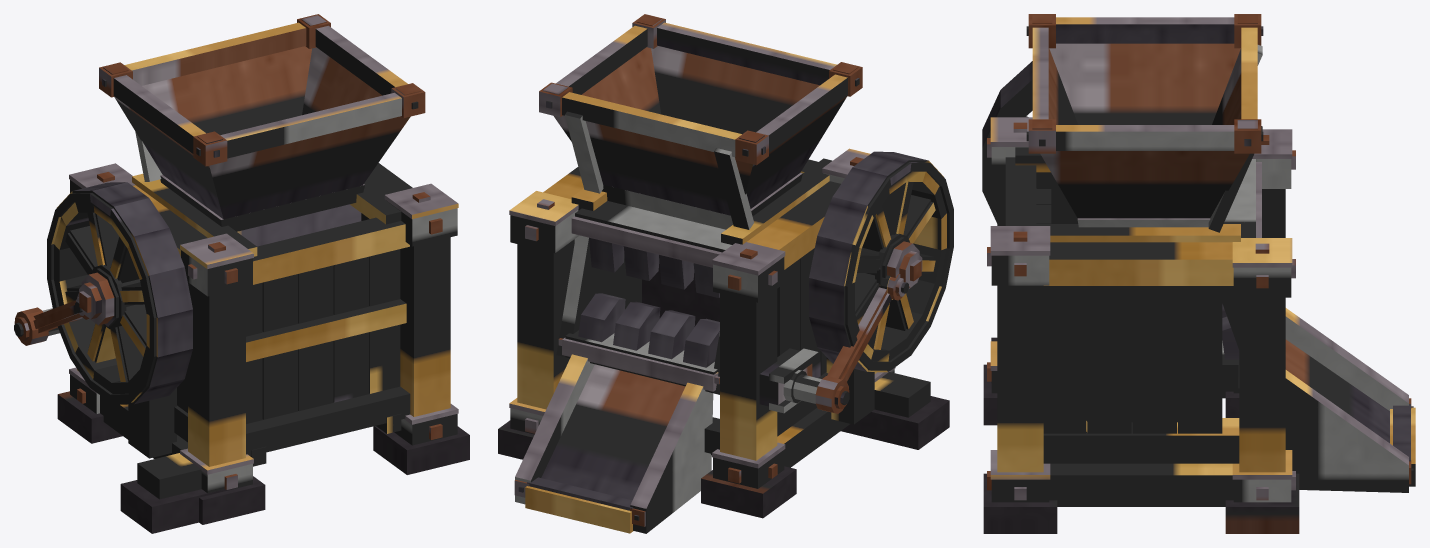
File: jaw_crusher_a.obj
3 views of the same model, side by side, from view 1: azimuth 30°, elevation 25°; view 2: azimuth 150°, elevation 25°; view 3: azimuth 270°, elevation 25° (orthographic). The views are drawn at different scales.
Parts seen in each view (by area): view 1: jaw_crusher; view 2: jaw_crusher; view 3: jaw_crusher.
Boxes of the visible parts, x1=… form: jaw_crusher: x1=14, y1=14, x2=469, y2=533; jaw_crusher: x1=498, y1=14, x2=953, y2=533; jaw_crusher: x1=982, y1=14, x2=1415, y2=533.
Bounding box in the file's own units: 0.8817 × 0.9105 × 0.9135.
